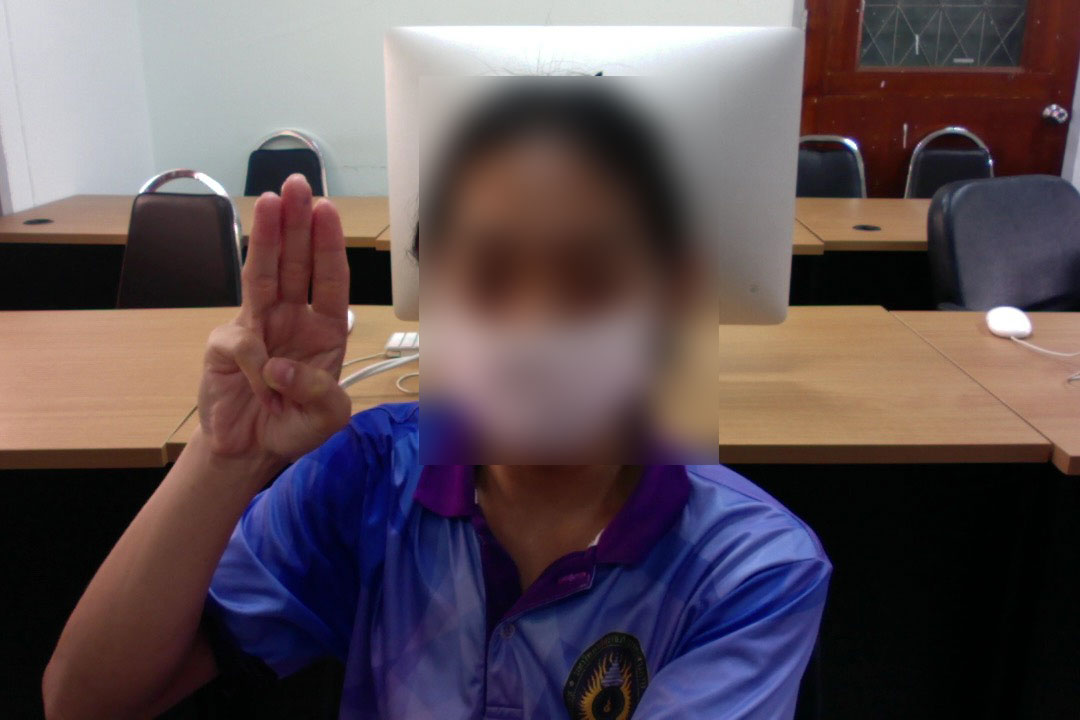wor: (192, 171, 364, 466)
